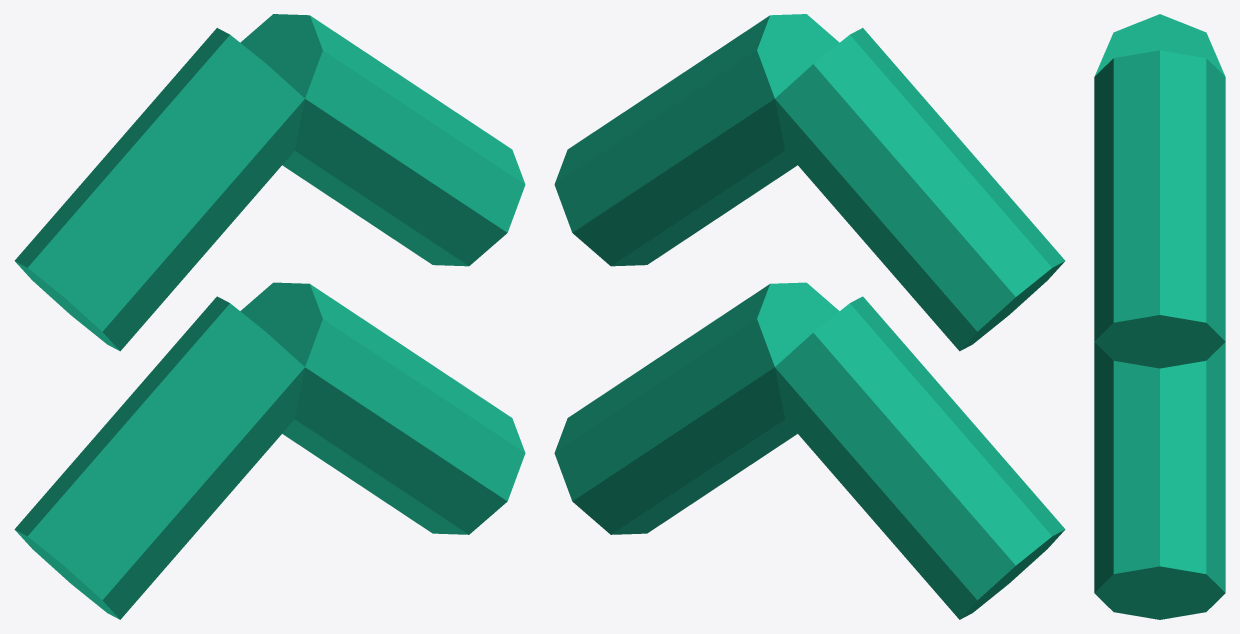
The model's file is boost.glb.
The picture shows the model from 3 angles, left to right: view 1: azimuth 30°, elevation 25°; view 2: azimuth 150°, elevation 25°; view 3: azimuth 270°, elevation 25°; orthographic projection. The views are drawn at different scales.
Visible parts, largest first — view 1: PickupMesh_boost; view 2: PickupMesh_boost; view 3: PickupMesh_boost.
Boxes of the visible parts, box(x1,y1,x2,y2) form: PickupMesh_boost: box(14, 14, 525, 619); PickupMesh_boost: box(554, 14, 1065, 619); PickupMesh_boost: box(1094, 14, 1225, 619).
Size of the model in its own units: 0.7179 by 0.776 by 0.18.
